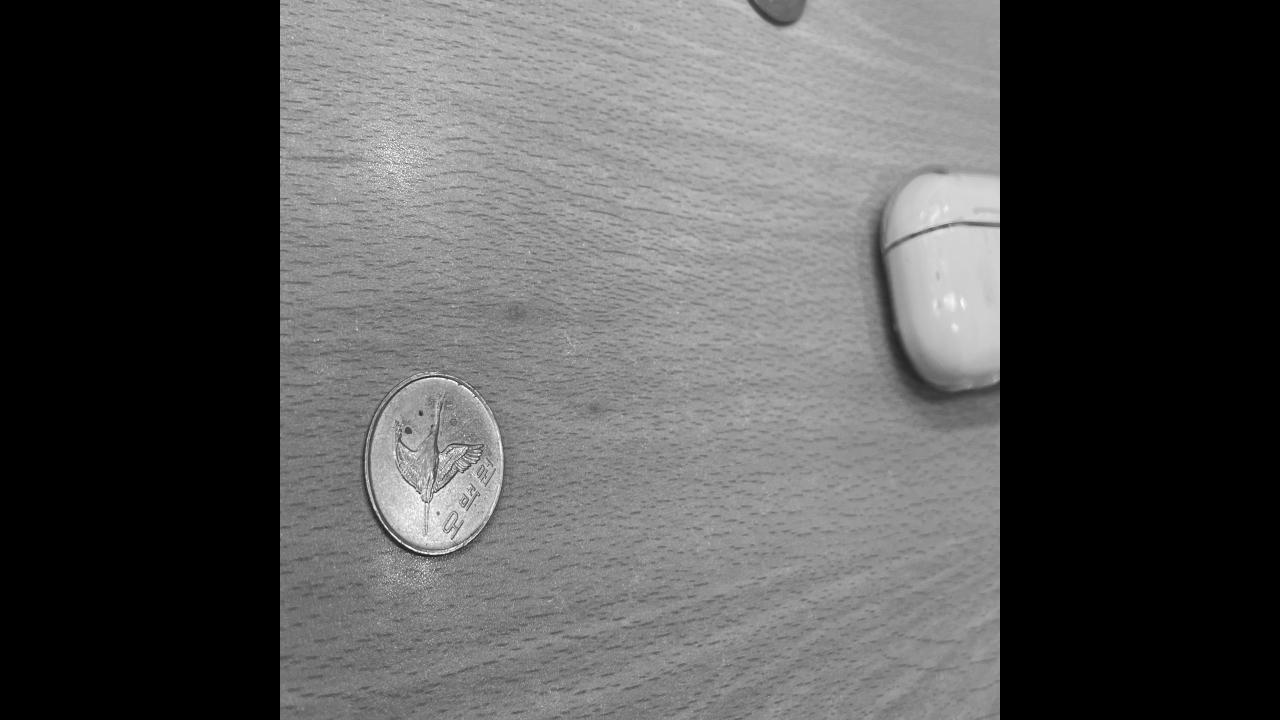coin: (362, 362, 508, 557), (730, 0, 812, 28)
